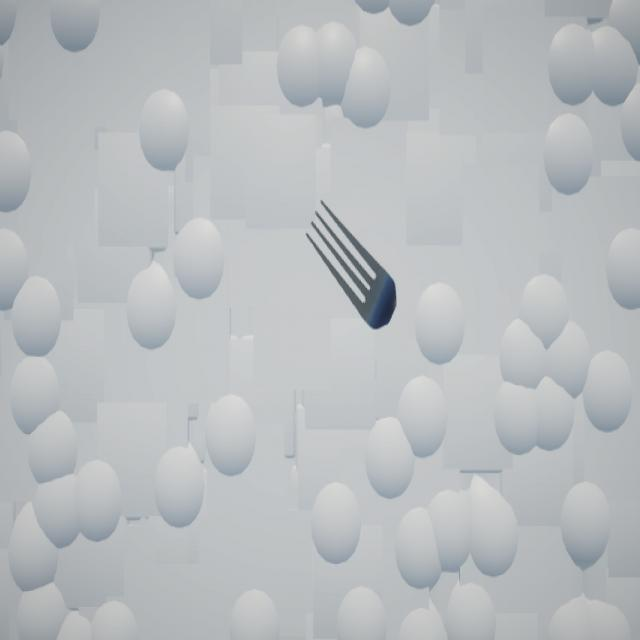top_folk: (306, 201, 398, 331)
